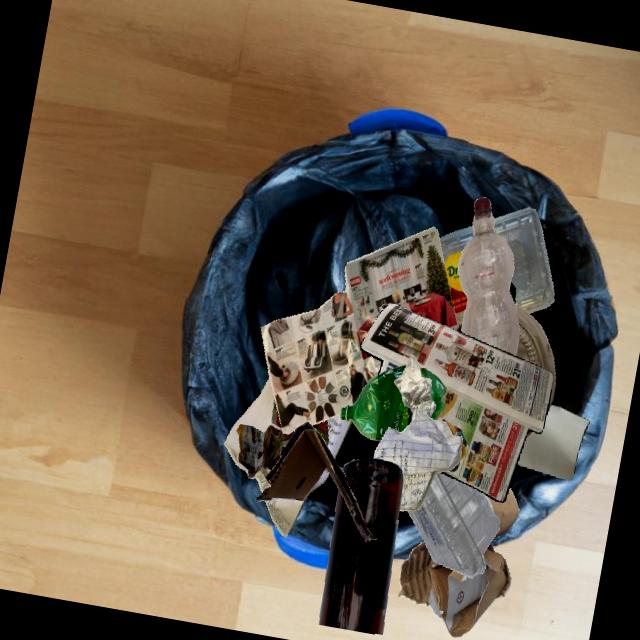biowaste: (458, 325, 460, 327)
cardboard: (256, 421, 377, 542), (397, 541, 510, 637)
glass: (318, 458, 403, 634), (462, 315, 528, 435)
paper: (260, 226, 458, 433), (360, 303, 552, 502), (373, 412, 462, 510), (236, 431, 334, 499), (516, 404, 590, 480), (236, 393, 295, 487), (224, 377, 273, 472), (393, 354, 436, 422)
plastic: (457, 197, 519, 355), (407, 472, 499, 577), (494, 207, 553, 313), (340, 365, 413, 441), (439, 225, 474, 325), (508, 281, 515, 304)
